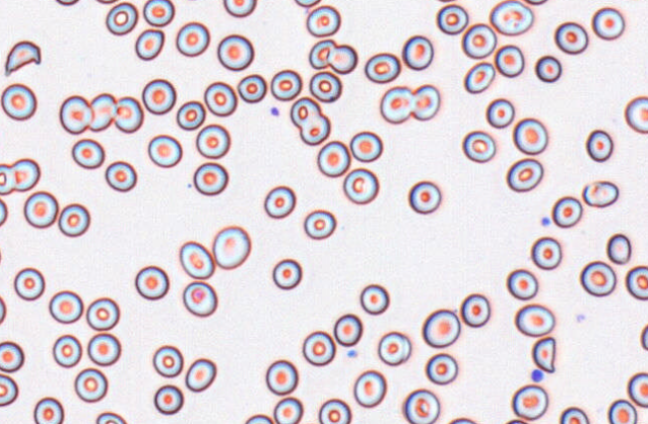PLT: (530, 368, 546, 384), (540, 215, 552, 227), (346, 347, 358, 359), (269, 105, 280, 117)
RBC: (212, 225, 251, 269), (421, 308, 460, 348), (489, 0, 533, 35), (217, 33, 254, 71), (0, 83, 37, 120), (402, 388, 440, 424), (179, 240, 214, 279), (514, 303, 554, 337), (342, 167, 378, 204), (579, 260, 616, 296), (511, 384, 548, 420), (23, 190, 58, 228), (59, 94, 92, 134), (506, 157, 543, 192), (182, 280, 217, 317), (512, 117, 547, 154), (379, 85, 413, 123), (141, 78, 176, 114), (195, 123, 230, 159), (316, 140, 350, 177), (353, 369, 386, 407), (134, 265, 169, 300), (461, 23, 496, 58), (175, 21, 210, 56), (193, 161, 228, 195), (86, 296, 120, 331), (74, 367, 108, 402), (377, 331, 411, 366), (203, 81, 237, 116), (302, 330, 335, 366), (265, 359, 298, 395), (87, 332, 121, 366), (591, 6, 625, 40), (147, 134, 182, 167), (48, 290, 83, 323), (305, 4, 340, 37), (401, 34, 433, 70), (105, 1, 138, 35), (424, 352, 458, 385), (408, 180, 441, 214), (554, 21, 588, 54), (58, 202, 90, 237), (364, 52, 400, 83), (113, 96, 143, 133), (263, 185, 296, 218), (530, 236, 562, 270), (185, 357, 216, 392), (13, 267, 45, 300), (462, 130, 495, 162), (349, 130, 382, 162), (411, 84, 440, 120), (104, 160, 136, 192), (463, 61, 495, 93), (309, 70, 341, 102), (270, 69, 302, 101), (506, 268, 538, 300), (71, 138, 104, 169), (152, 344, 183, 377), (551, 195, 582, 228), (10, 157, 40, 191), (460, 293, 490, 327), (299, 113, 330, 145), (436, 3, 468, 34), (52, 334, 82, 367), (494, 44, 524, 77), (303, 209, 336, 239), (582, 180, 618, 207), (290, 96, 321, 127), (134, 28, 164, 60), (359, 283, 389, 315), (333, 313, 362, 346), (327, 43, 357, 74), (153, 384, 183, 415), (272, 258, 302, 289), (585, 129, 613, 162), (624, 95, 648, 133), (485, 97, 514, 128), (317, 398, 351, 424), (176, 100, 205, 130), (237, 73, 266, 103), (272, 396, 303, 424), (33, 396, 64, 424), (142, 0, 174, 27), (308, 39, 336, 69), (625, 265, 648, 300), (607, 398, 637, 424), (606, 233, 631, 264), (0, 340, 24, 372), (627, 371, 648, 407), (534, 54, 561, 82), (0, 372, 18, 406), (223, 0, 256, 17), (559, 406, 589, 424), (0, 163, 15, 194), (95, 411, 127, 424), (243, 413, 274, 424), (445, 416, 479, 424), (640, 322, 648, 351), (0, 197, 8, 226), (293, 0, 321, 7), (0, 293, 6, 325), (502, 418, 529, 424), (53, 0, 80, 6), (522, 0, 549, 5), (94, 0, 119, 4), (645, 53, 648, 83), (430, 0, 460, 3), (617, 0, 648, 2), (0, 241, 2, 270), (178, 0, 207, 1)
Schistocyte: (4, 39, 42, 77), (532, 337, 558, 374)
